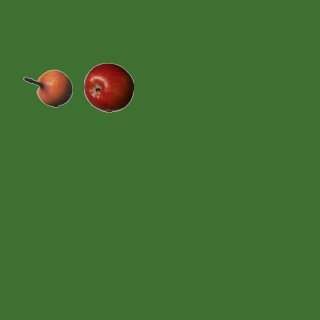Apple Braeburn: (83, 62, 133, 112)
Granadilla: (22, 63, 72, 113)
